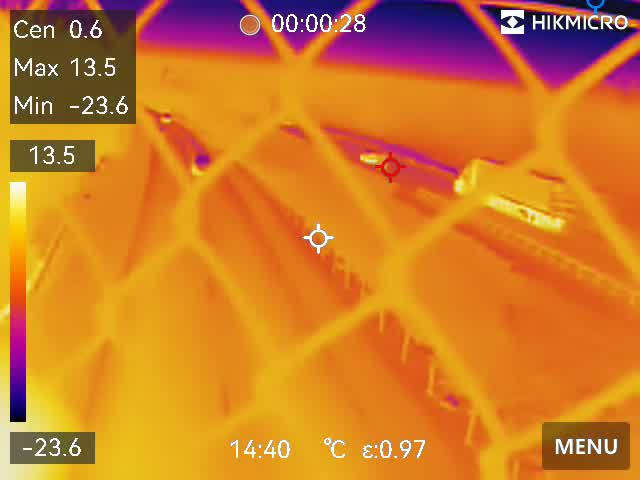heavyTruck: (454, 152, 600, 235)
smallCar: (179, 148, 215, 179), (357, 147, 392, 170), (156, 109, 174, 127)
